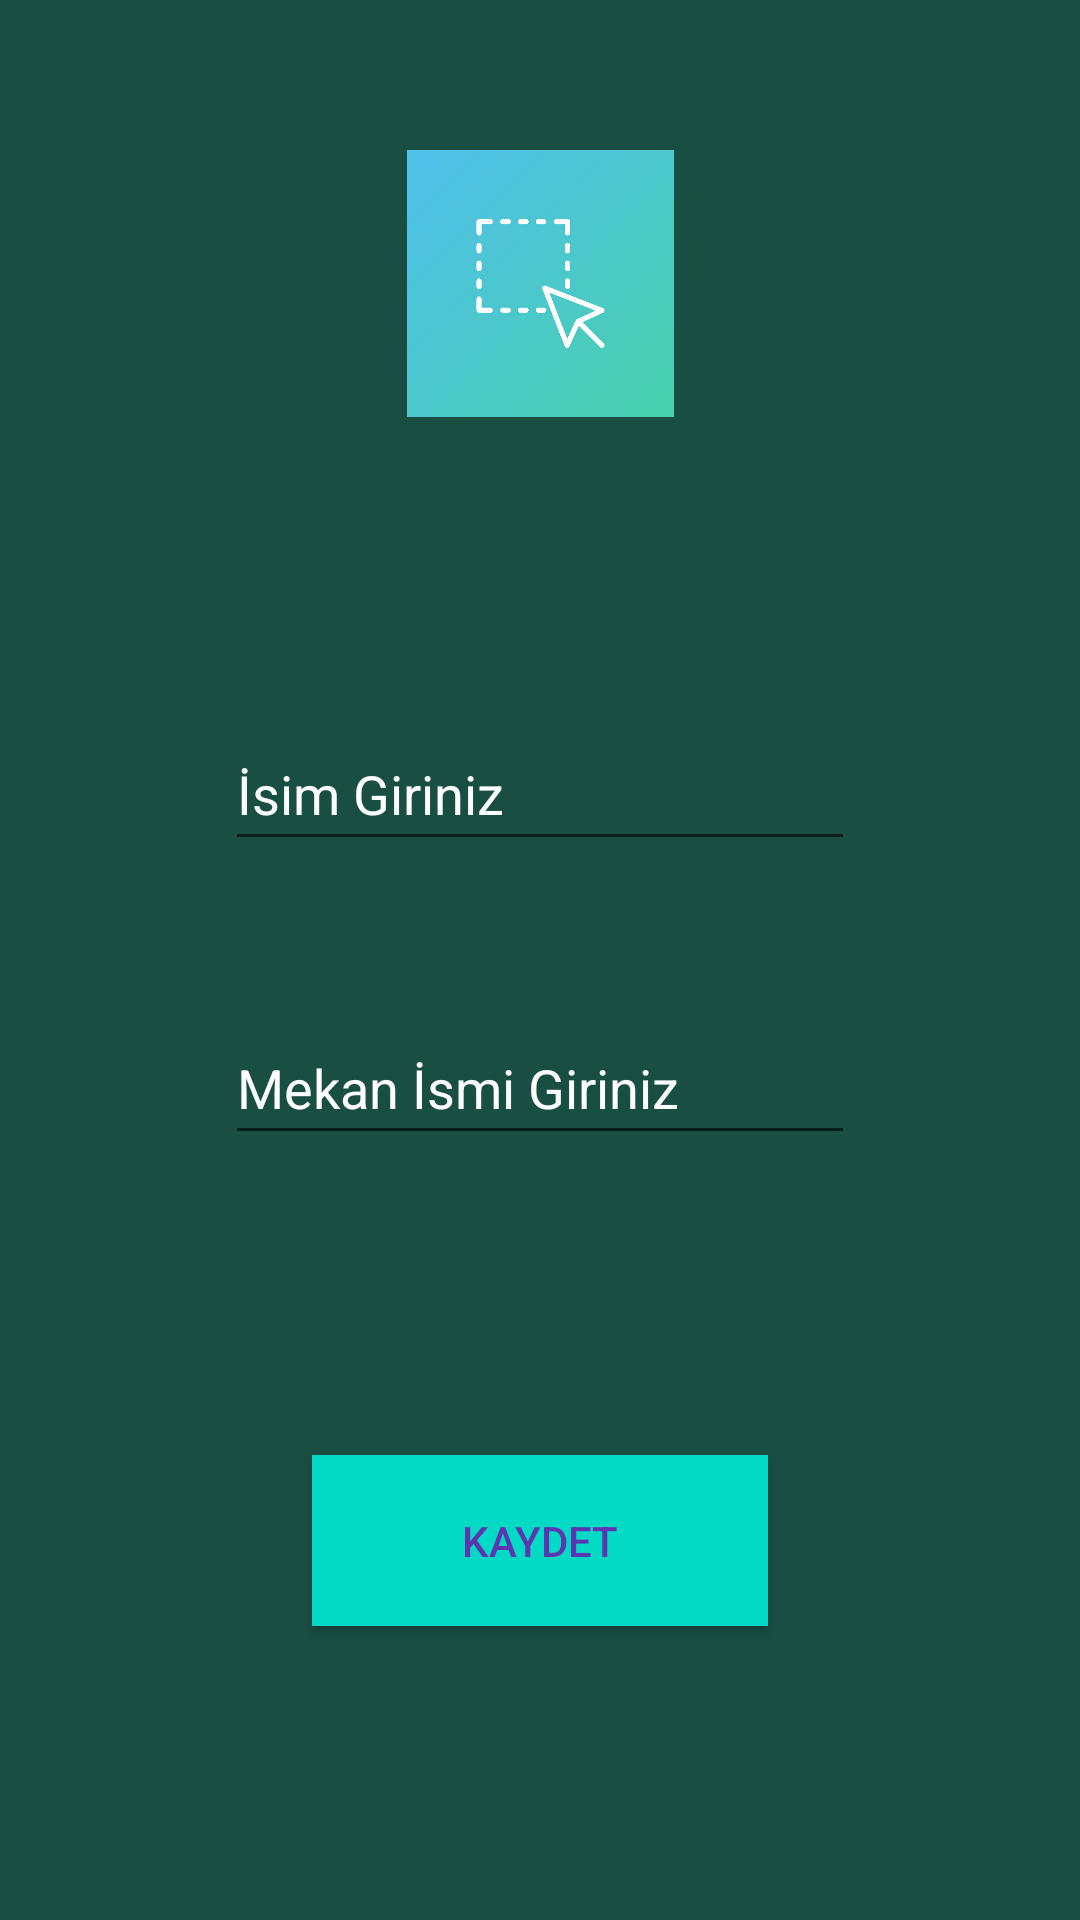

Icon bounding boxes for this 1080 × 1920 phone screenshot, format (x1, y1, x2, y2):
selectimagephoto: (407, 150, 674, 417)
